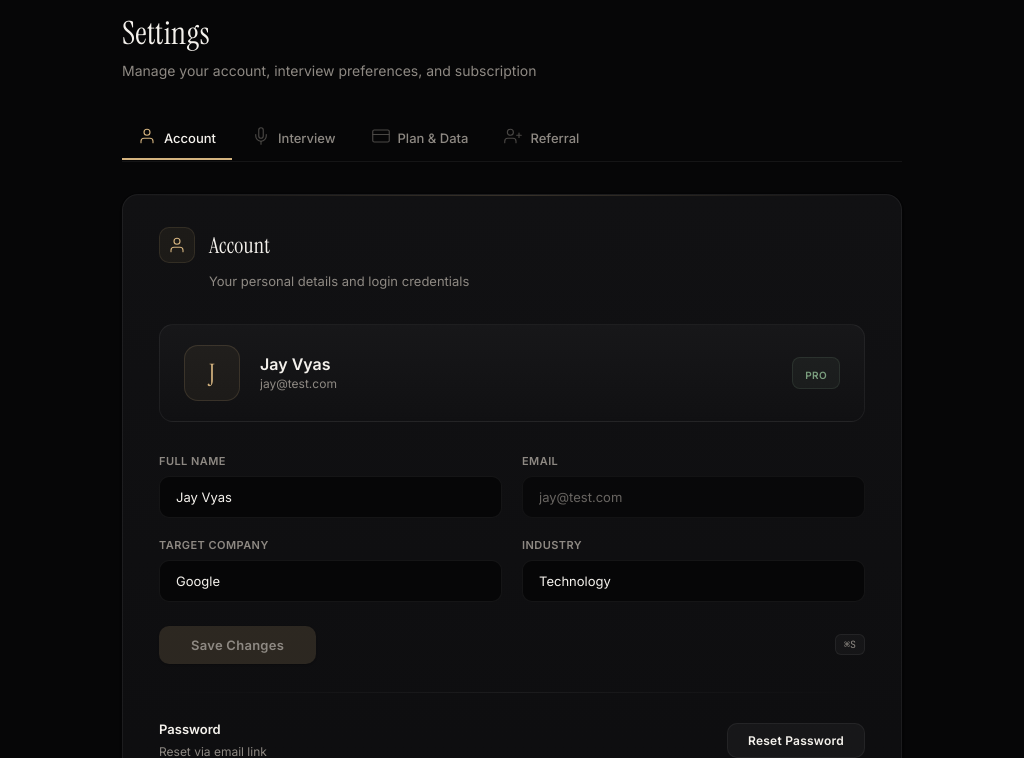
Test: Flow 11: Edge Cases › settings works for pro user with active subscription
What coordinates should you click on to do the following:
click the tab "Plan & Data"
I would click on:
 (420, 138)
Its box is [356,117,484,160].
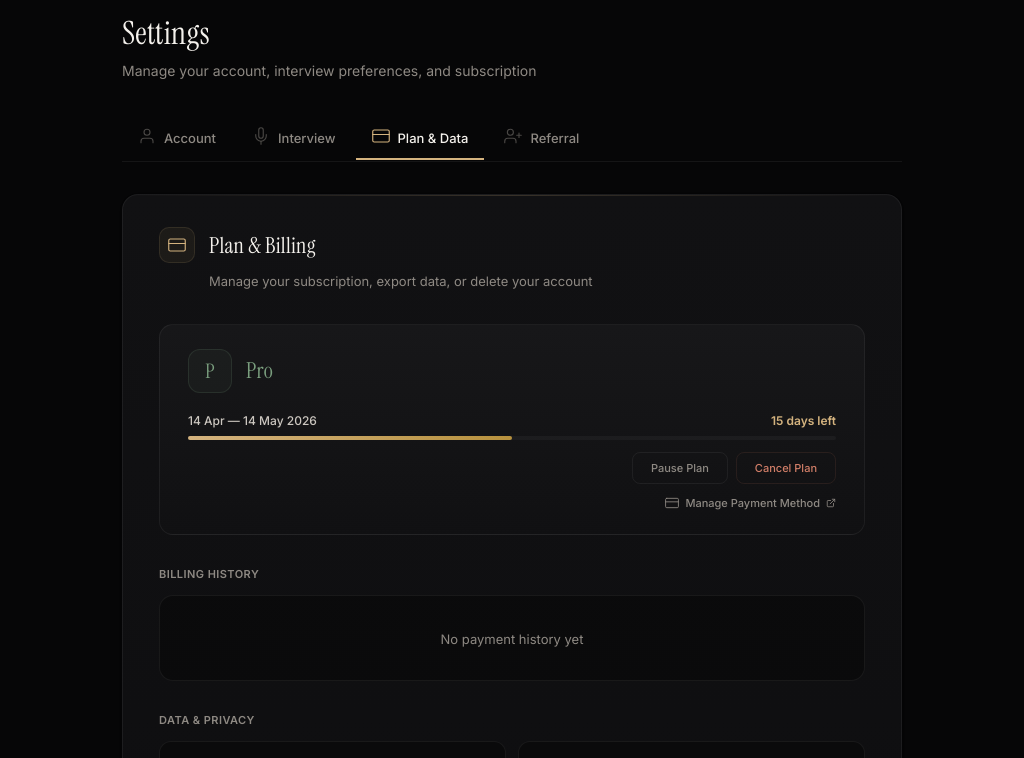
Check: the text "Pro" is shown, box [246,356,273,385]
Check: the text "15 days left" is shown, box [771,413,836,428]
